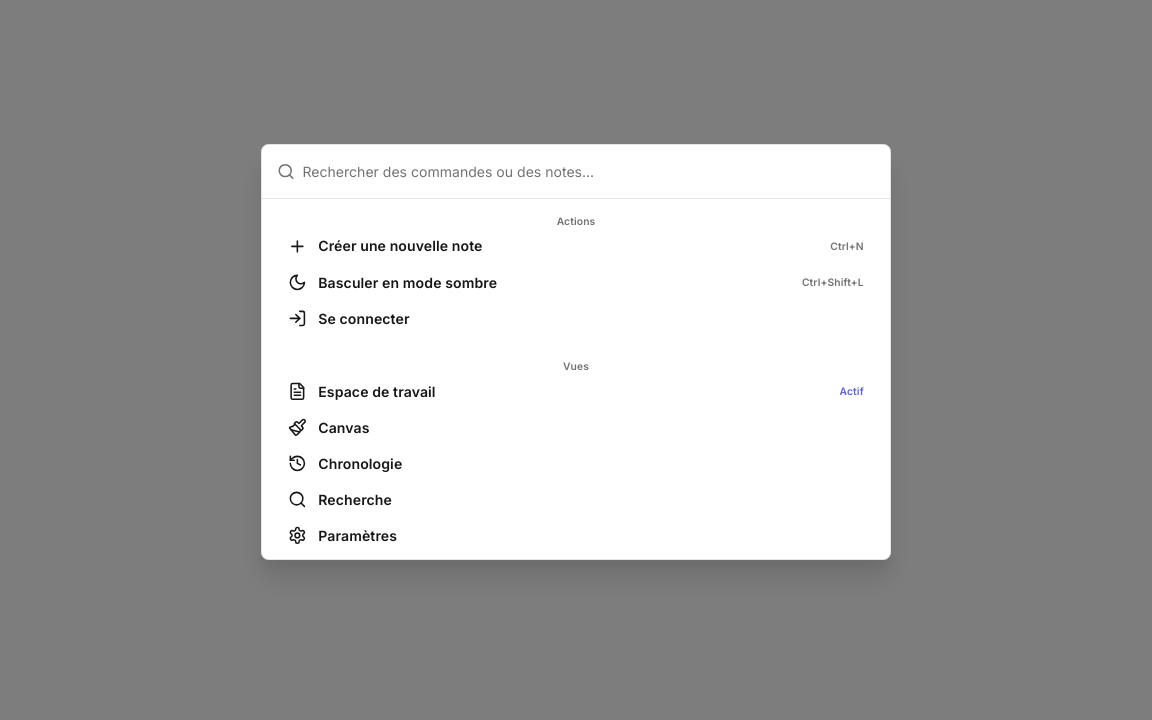
CommandPalette › Search › should show empty state when no results
The width and height of the screenshot is (1152, 720).
Type "xyznonexistent" into the dropdown with placeholder "Rechercher des commandes ou des notes...".
click(589, 171); type("xyznonexistent")  # box [302,145,875,198]
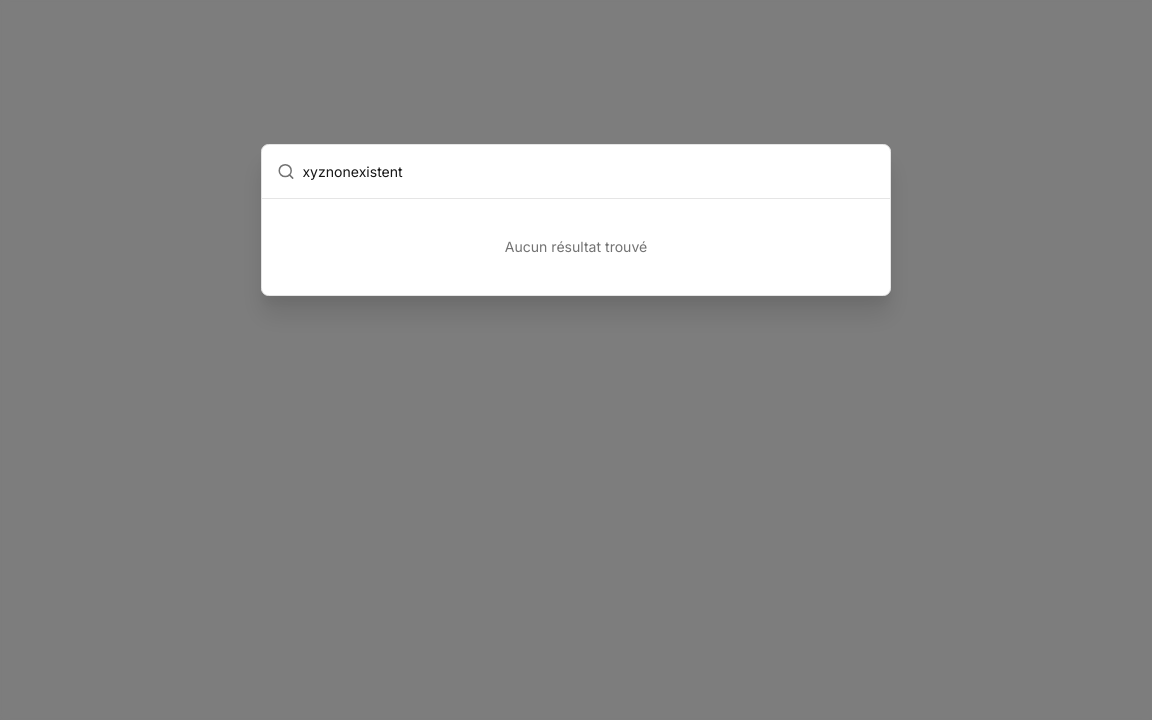
Check: the text "Aucun résultat trouvé" is shown, box [505,238,647,255]
